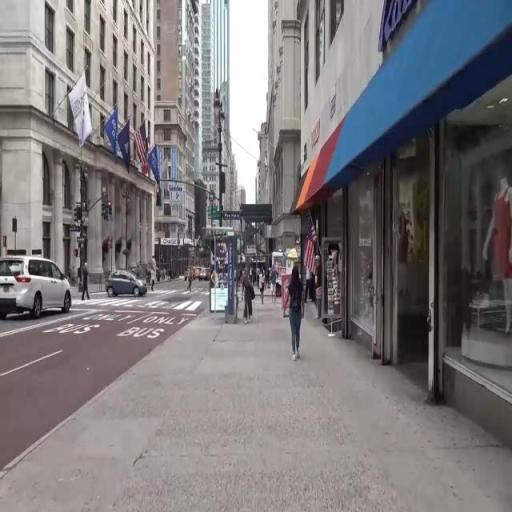person: (287, 269, 306, 367), (244, 270, 255, 324), (84, 262, 90, 305), (271, 264, 278, 299), (307, 265, 313, 305), (260, 268, 266, 304), (188, 269, 195, 296), (152, 268, 158, 293), (73, 263, 77, 288), (268, 269, 271, 292), (258, 268, 261, 289), (251, 264, 254, 279)
